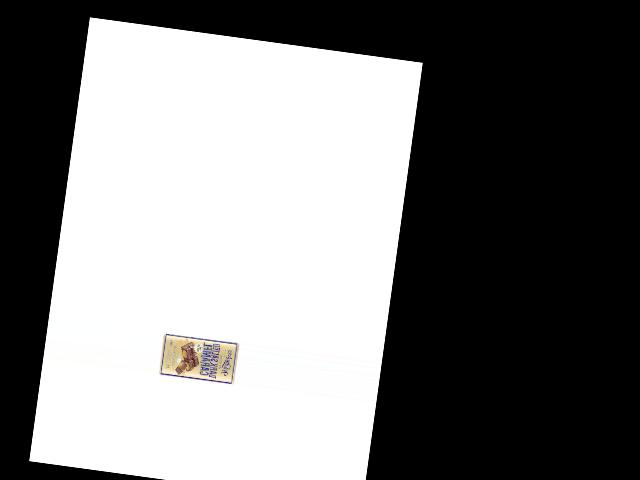chocolate: (156, 329, 239, 385)
